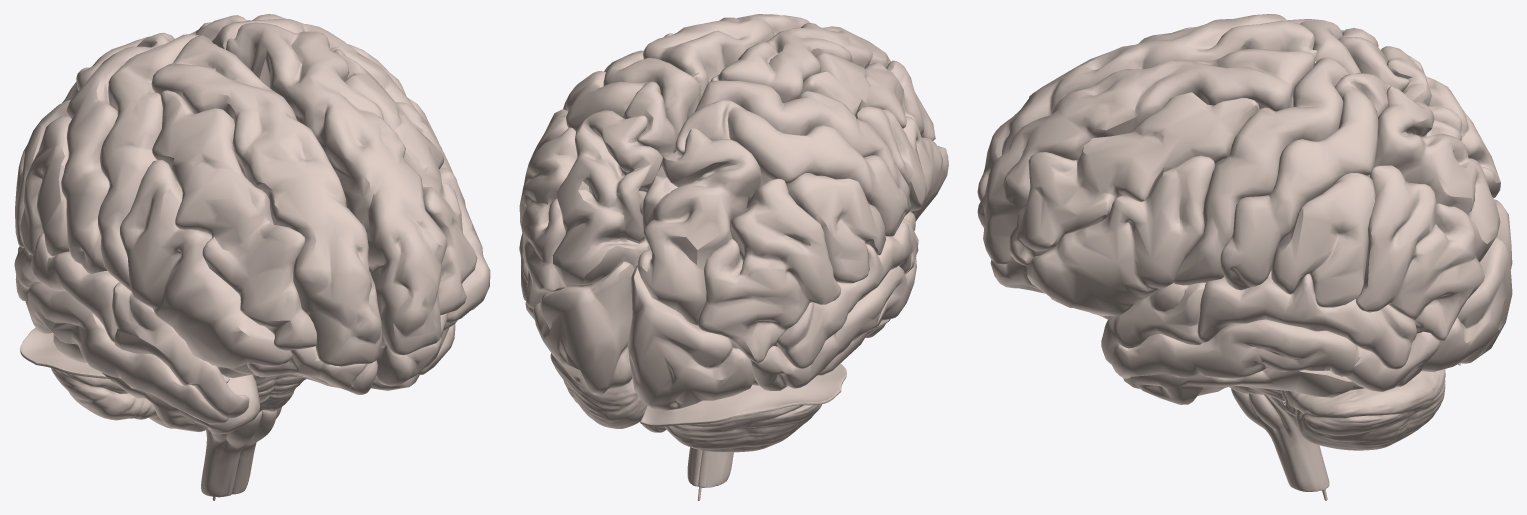
Rendered from snc-tete.hi.glb.
The picture shows the model from 3 angles, left to right: view 1: azimuth 30°, elevation 25°; view 2: azimuth 150°, elevation 25°; view 3: azimuth 270°, elevation 25°; orthographic projection. The views are drawn at different scales.
Visible parts, largest first — view 1: FJ1834, FJ1833, FJ1788, FJ1745, FJ1801, FJ1798, FJ1790, FJ1787, FJ1838, FJ1842, FJ1840, FJ1794 (+12 smaller); view 2: FJ1733, FJ1836, FJ1835, FJ1792, FJ1798, FJ1791, FJ1834, FJ1732, FJ1842, FJ1801, FJ1833, FJ1788 (+11 smaller); view 3: FJ1833, FJ1787, FJ1744, FJ1732, FJ1789, FJ1797, FJ1800, FJ1834, FJ1841, FJ1835, FJ1839, FJ1781 (+8 smaller).
Part boxes in pixels (<box>): FJ1834: <box>151,35,382,366</box>; FJ1833: <box>226,22,447,355</box>; FJ1788: <box>152,90,316,350</box>; FJ1745: <box>120,160,292,368</box>; FJ1801: <box>98,34,199,291</box>; FJ1798: <box>61,32,174,273</box>; FJ1790: <box>25,282,228,424</box>; FJ1787: <box>333,49,477,315</box>; FJ1838: <box>112,282,249,418</box>; FJ1842: <box>20,116,71,256</box>; FJ1840: <box>14,233,119,342</box>; FJ1794: <box>217,346,377,394</box>; FJ1733: <box>697,178,840,362</box>; FJ1836: <box>638,128,763,325</box>; FJ1835: <box>552,110,662,287</box>; FJ1792: <box>627,265,754,410</box>; FJ1798: <box>675,99,907,236</box>; FJ1791: <box>533,261,634,395</box>; FJ1834: <box>710,23,891,103</box>; FJ1732: <box>519,127,577,308</box>; FJ1842: <box>786,173,885,283</box>; FJ1801: <box>695,80,911,215</box>; FJ1833: <box>643,14,810,99</box>; FJ1788: <box>798,52,935,140</box>; FJ1833: <box>977,49,1316,264</box>; FJ1787: <box>1008,92,1259,265</box>; FJ1744: <box>1027,155,1215,316</box>; FJ1732: <box>1356,165,1484,340</box>; FJ1789: <box>1110,319,1439,391</box>; FJ1797: <box>1220,73,1389,290</box>; FJ1800: <box>1173,57,1349,285</box>; FJ1834: <box>977,14,1317,201</box>; FJ1841: <box>1271,173,1376,307</box>; FJ1835: <box>1367,86,1500,262</box>; FJ1839: <box>1197,270,1416,369</box>; FJ1781: <box>1282,369,1445,450</box>.
Size of the model in its own units: 0.1408 by 0.1719 by 0.18.
